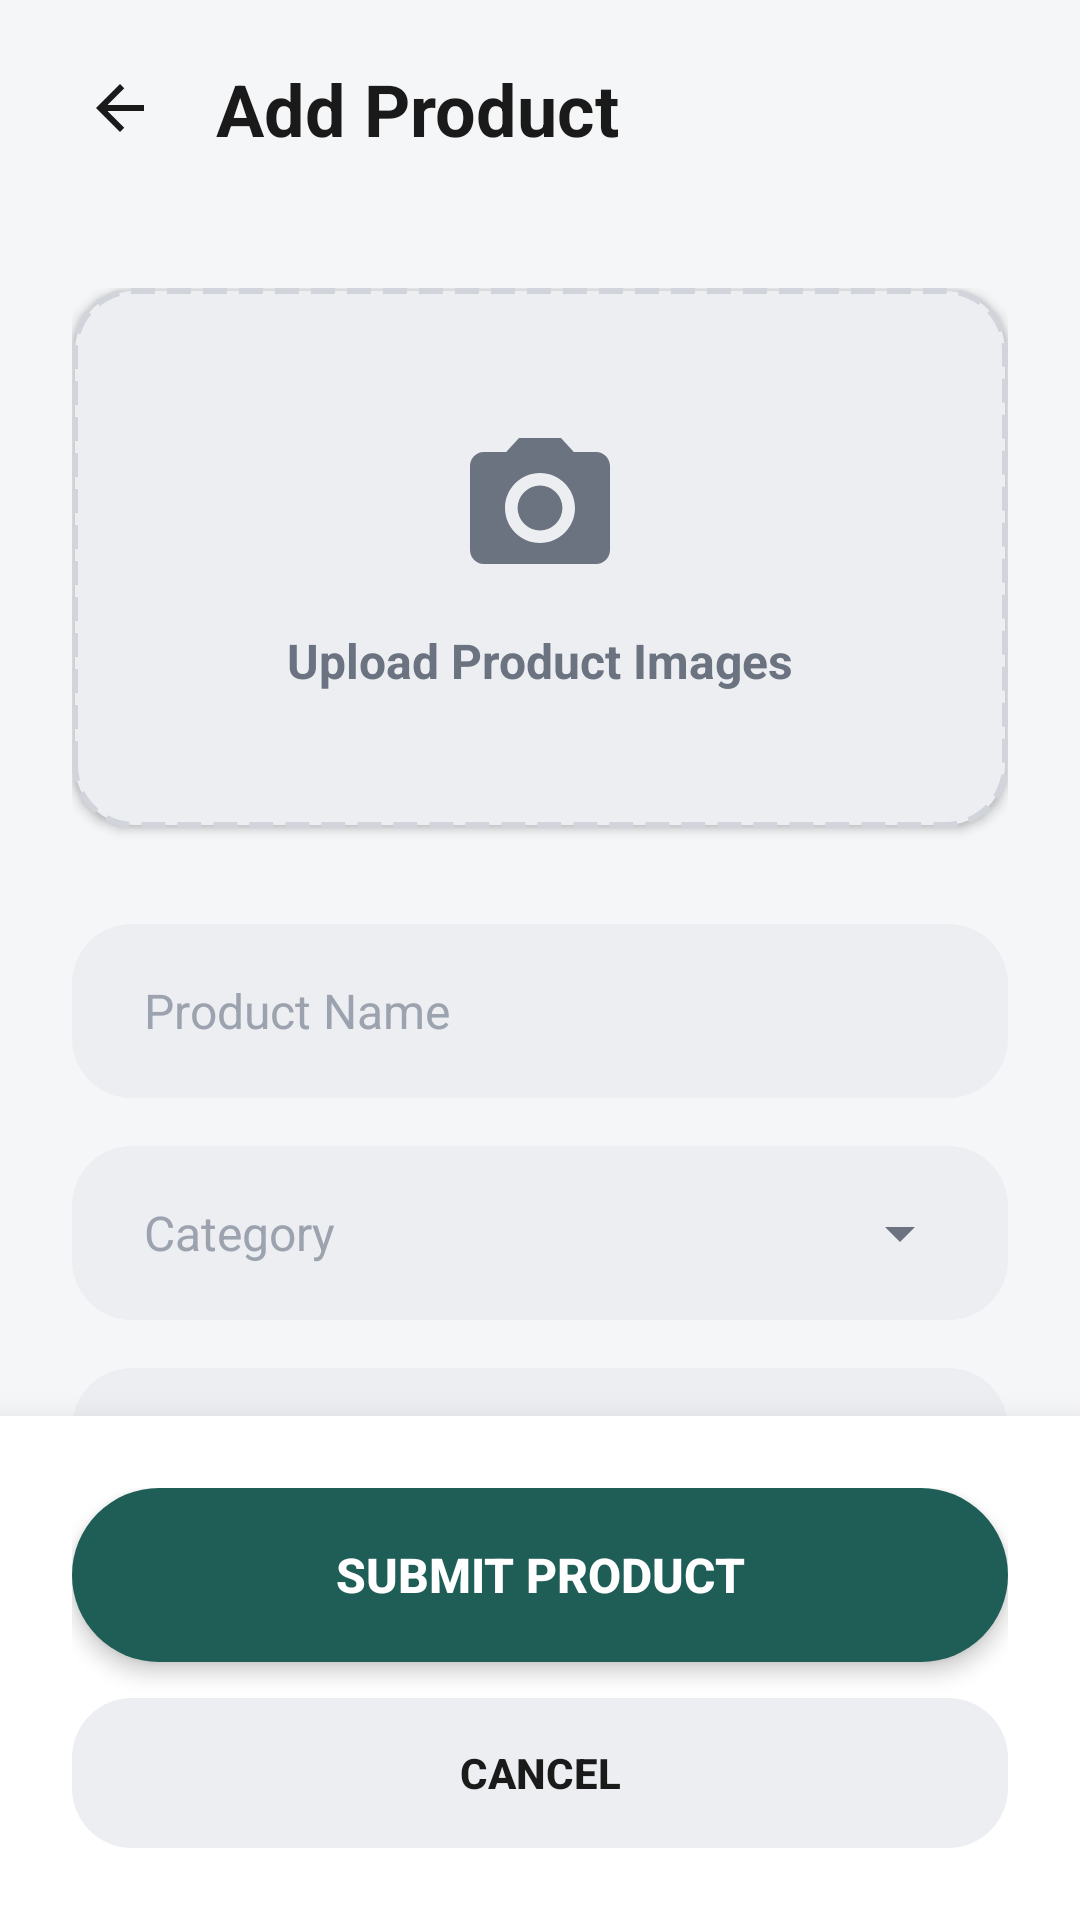

Point at icon controls on the screen. Image size 1080×1920, points as (x=x, y=y).
Back: (x=120, y=108)
camera upload: (x=540, y=501)
